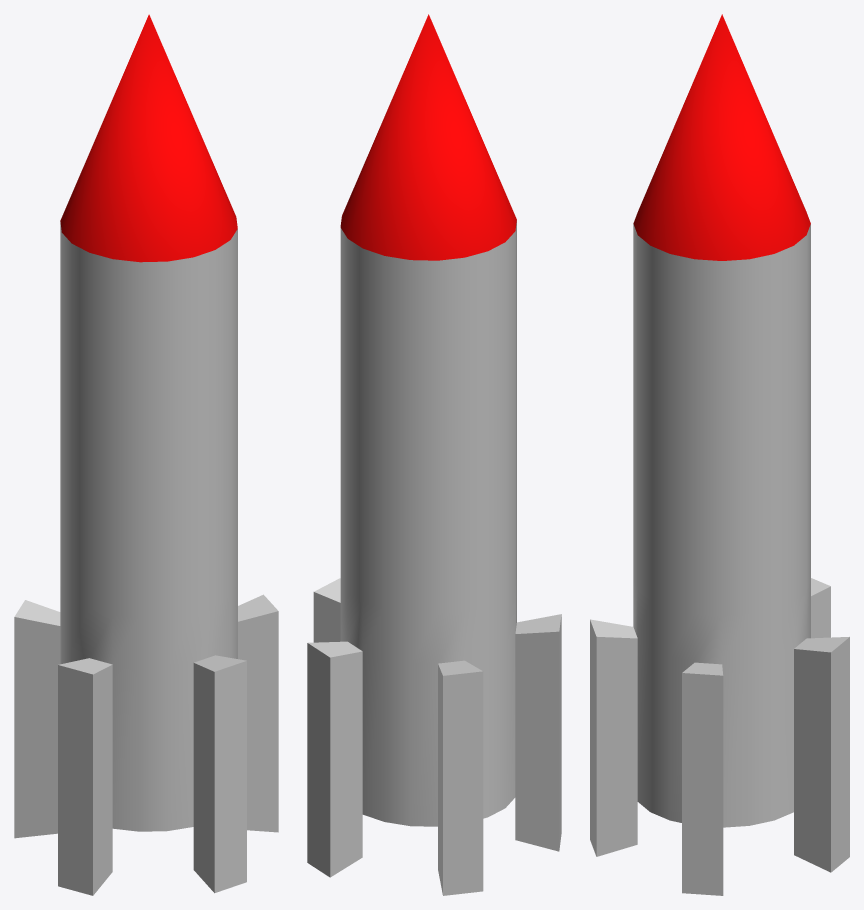
File: MISELSME.fbx
The picture shows the model from 3 angles, left to right: view 1: azimuth 30°, elevation 25°; view 2: azimuth 150°, elevation 25°; view 3: azimuth 270°, elevation 25°; orthographic projection.
Parts seen in each view (by area): view 1: pCylinder1; view 2: pCylinder1; view 3: pCylinder1.
Part boxes in pixels (<box>): pCylinder1: <box>14,14,278,895</box>; pCylinder1: <box>307,14,561,895</box>; pCylinder1: <box>590,14,849,895</box>.
Bounding box in the file's own units: 1.51 × 5.29 × 1.51.
